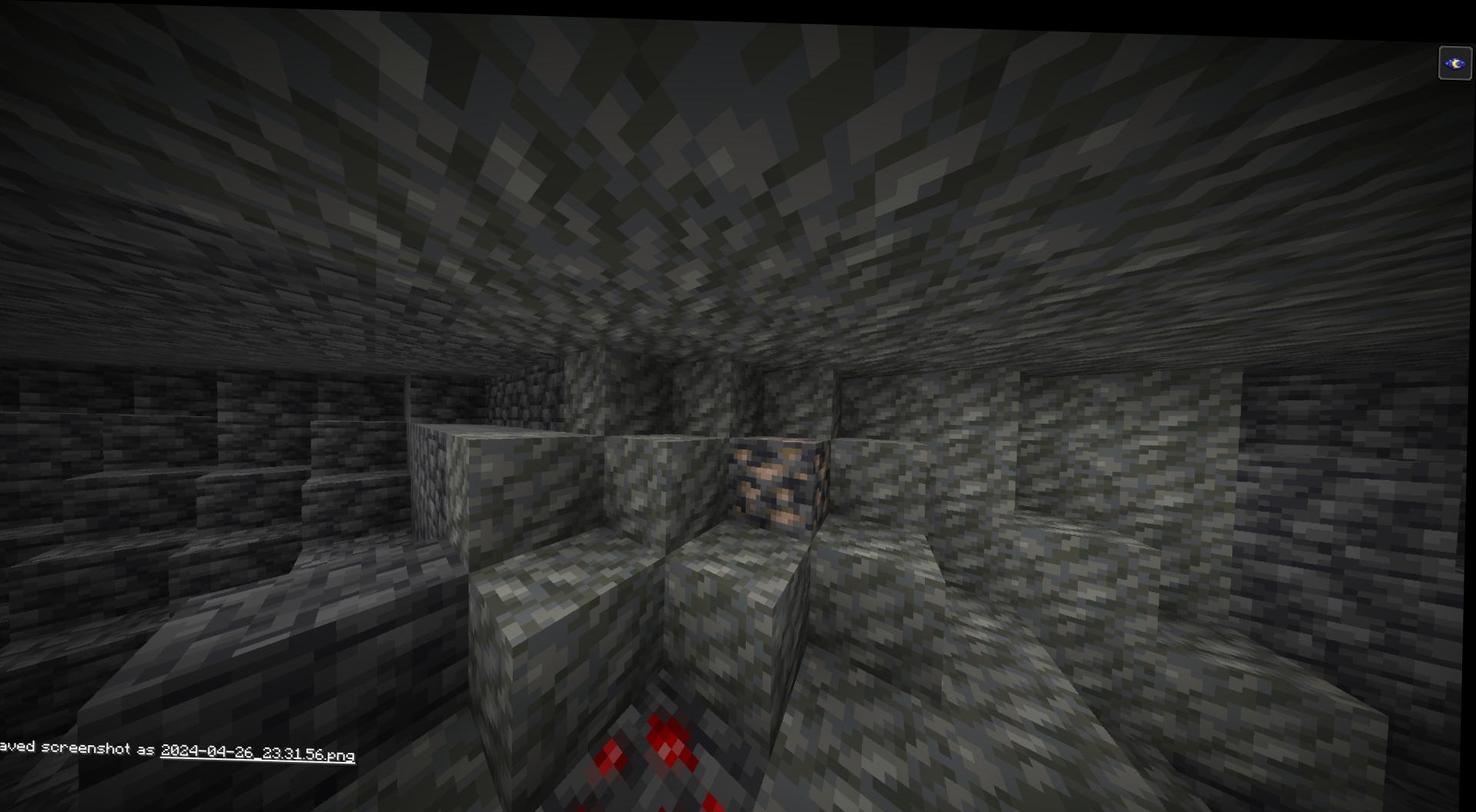iron ore: (735, 430, 843, 527)
redstone ore: (536, 684, 742, 812)
